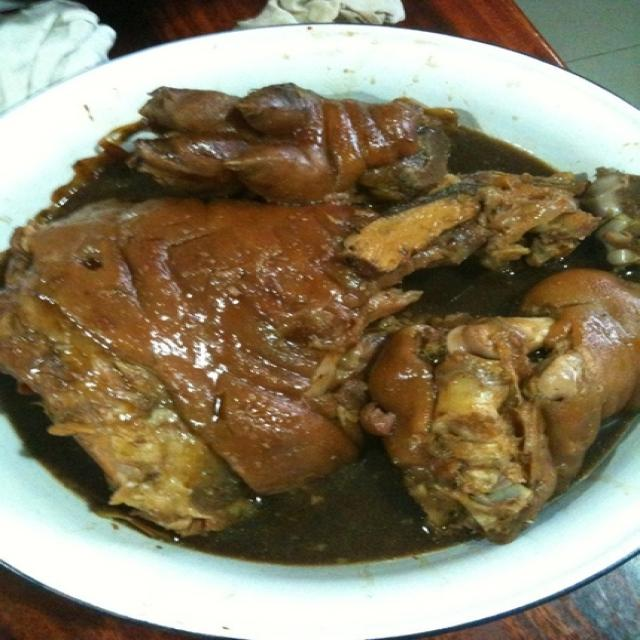猪肉菜式: (21, 45, 625, 584)
